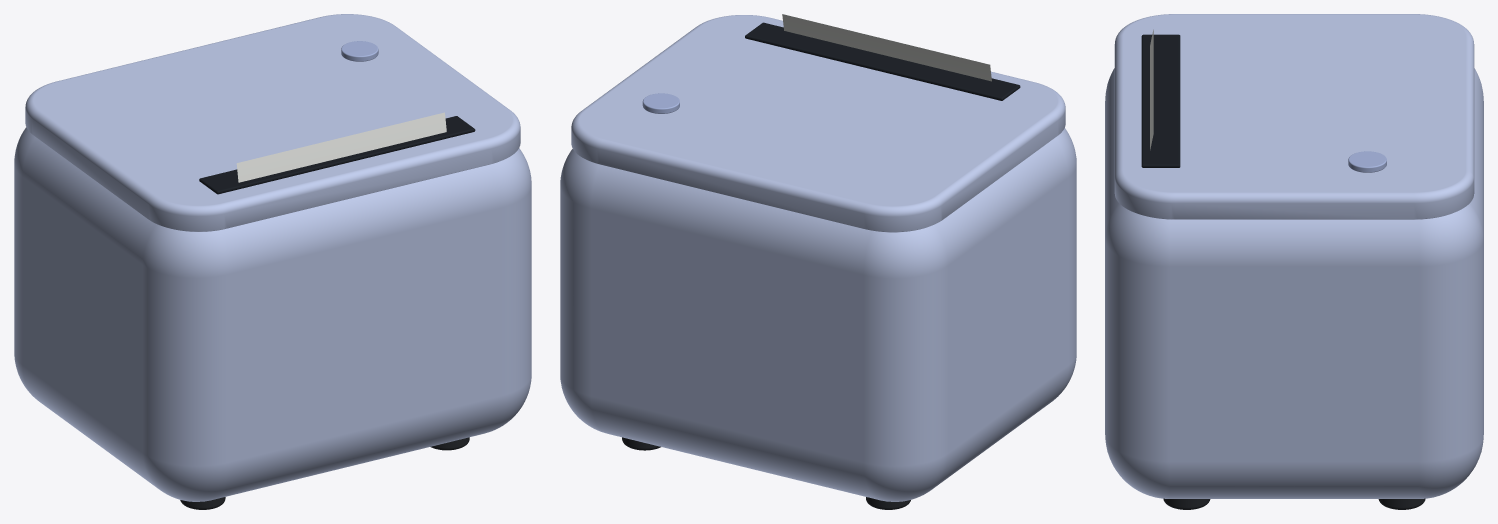
The model's file is receipt-printer.glb.
3 views of the same model, side by side, from view 1: azimuth 30°, elevation 25°; view 2: azimuth 150°, elevation 25°; view 3: azimuth 270°, elevation 25° (orthographic). The views are drawn at different scales.
Visible parts, largest first — view 1: closed-printer-enclosure-001, matching-radius-closed-printer-lid, continuous-feeding-receipt, recessed-paper-feed-slot, closed-printer-enclosure-008; view 2: closed-printer-enclosure-001, matching-radius-closed-printer-lid, recessed-paper-feed-slot, continuous-feeding-receipt, closed-printer-enclosure-008; view 3: closed-printer-enclosure-001, matching-radius-closed-printer-lid, recessed-paper-feed-slot, closed-printer-enclosure-008, continuous-feeding-receipt.
Boxes of the visible parts, x1,y1,x2,y2 form: closed-printer-enclosure-001: [14, 127, 531, 501]; matching-radius-closed-printer-lid: [25, 14, 520, 231]; continuous-feeding-receipt: [236, 112, 446, 182]; recessed-paper-feed-slot: [199, 116, 475, 194]; closed-printer-enclosure-008: [341, 41, 378, 61]; closed-printer-enclosure-001: [560, 128, 1076, 501]; matching-radius-closed-printer-lid: [571, 15, 1065, 232]; recessed-paper-feed-slot: [745, 22, 1020, 100]; continuous-feeding-receipt: [782, 14, 991, 81]; closed-printer-enclosure-008: [642, 93, 679, 113]; closed-printer-enclosure-001: [1105, 68, 1483, 498]; matching-radius-closed-printer-lid: [1114, 14, 1474, 219]; recessed-paper-feed-slot: [1141, 34, 1180, 167]; closed-printer-enclosure-008: [1348, 151, 1386, 172]; continuous-feeding-receipt: [1150, 29, 1153, 150].
Bounding box in the file's own units: 2 × 1.74 × 1.66.
